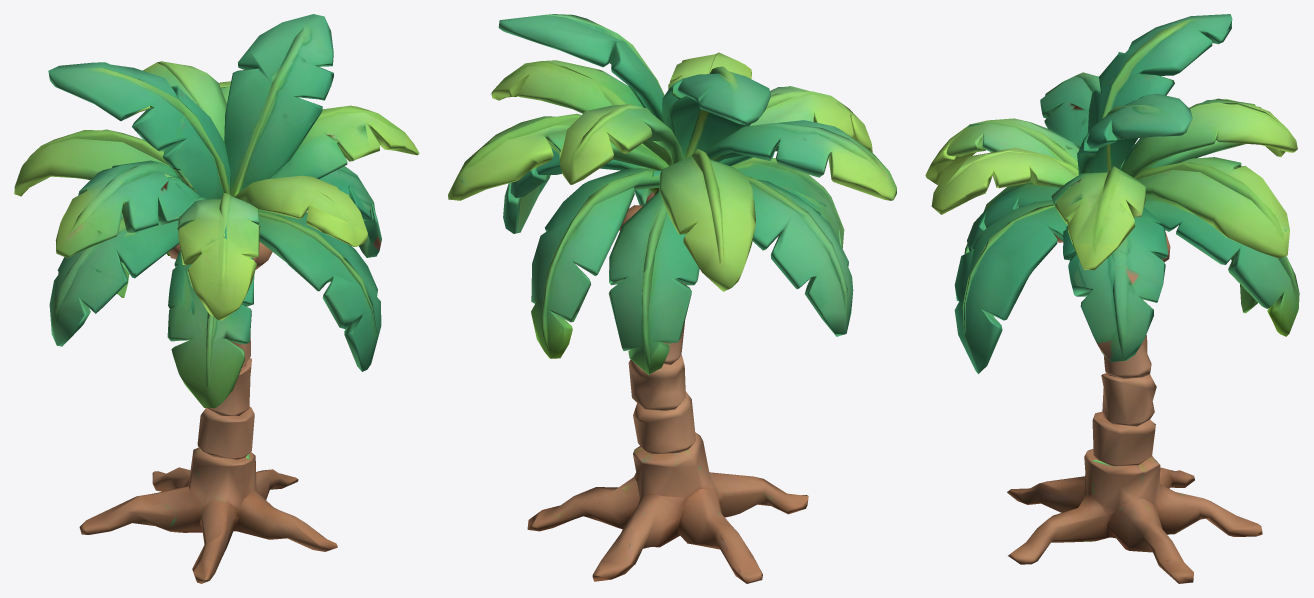
Rendered from environment-palm.glb.
3 renders of one model, left to right at view 1: azimuth 30°, elevation 25°; view 2: azimuth 150°, elevation 25°; view 3: azimuth 270°, elevation 25°, orthographic. The views are drawn at different scales.
Visible parts, largest first — view 1: model; view 2: model; view 3: model.
Part boxes in pixels (box(x1,y1,x2,y2)): model: box(14, 14, 419, 583); model: box(448, 14, 896, 583); model: box(925, 14, 1299, 583).
Size of the model in its own units: 1.57 by 1.9 by 1.36.
Materials: 1 (1 with a texture image).
